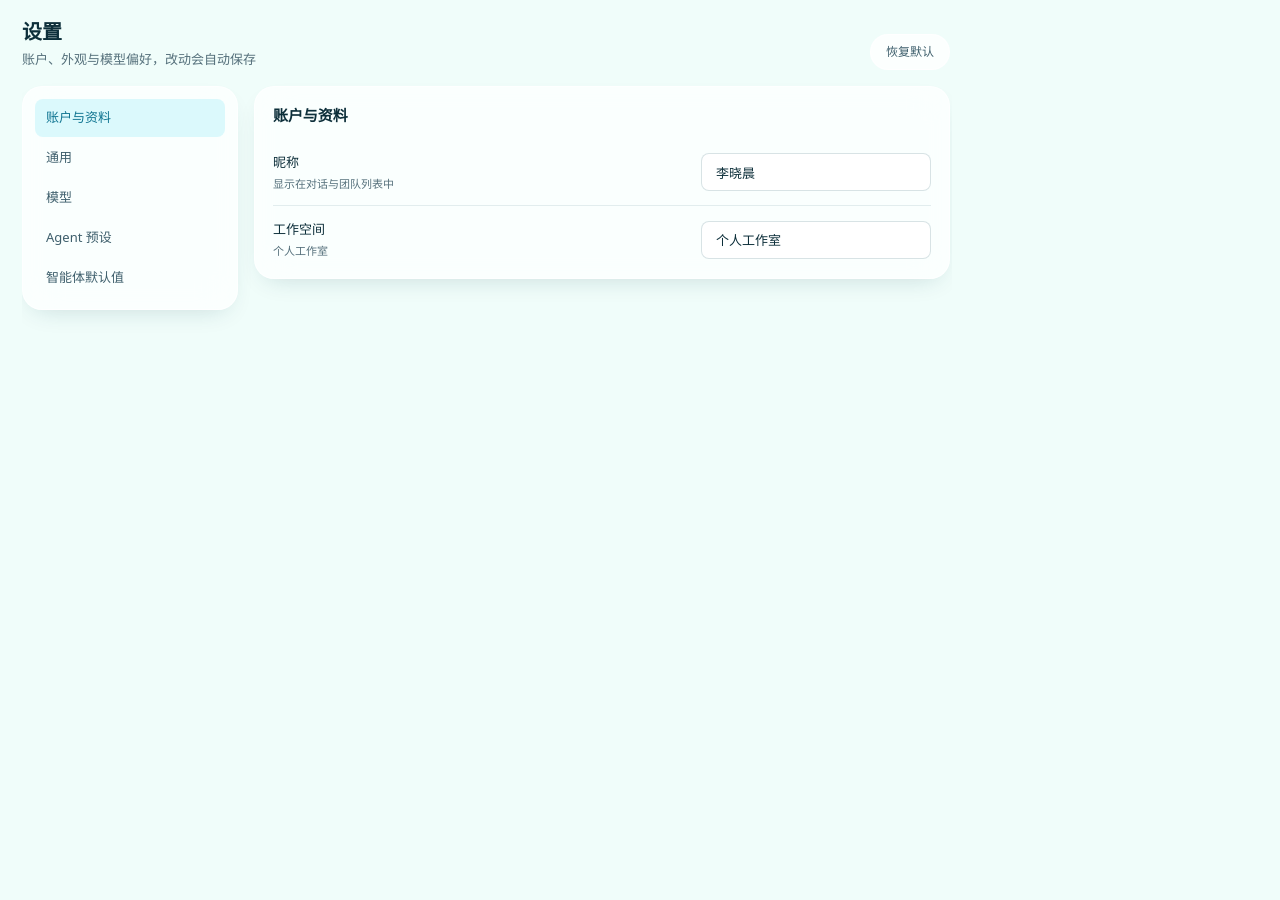
Test case: 查看配置 shows the declared plugin list as read-only YAML
Expected: the heading "设置" is shown, [22, 18, 62, 45]
Step 1. Click the button "Agent 预设" → [130, 238], box [35, 219, 225, 257]
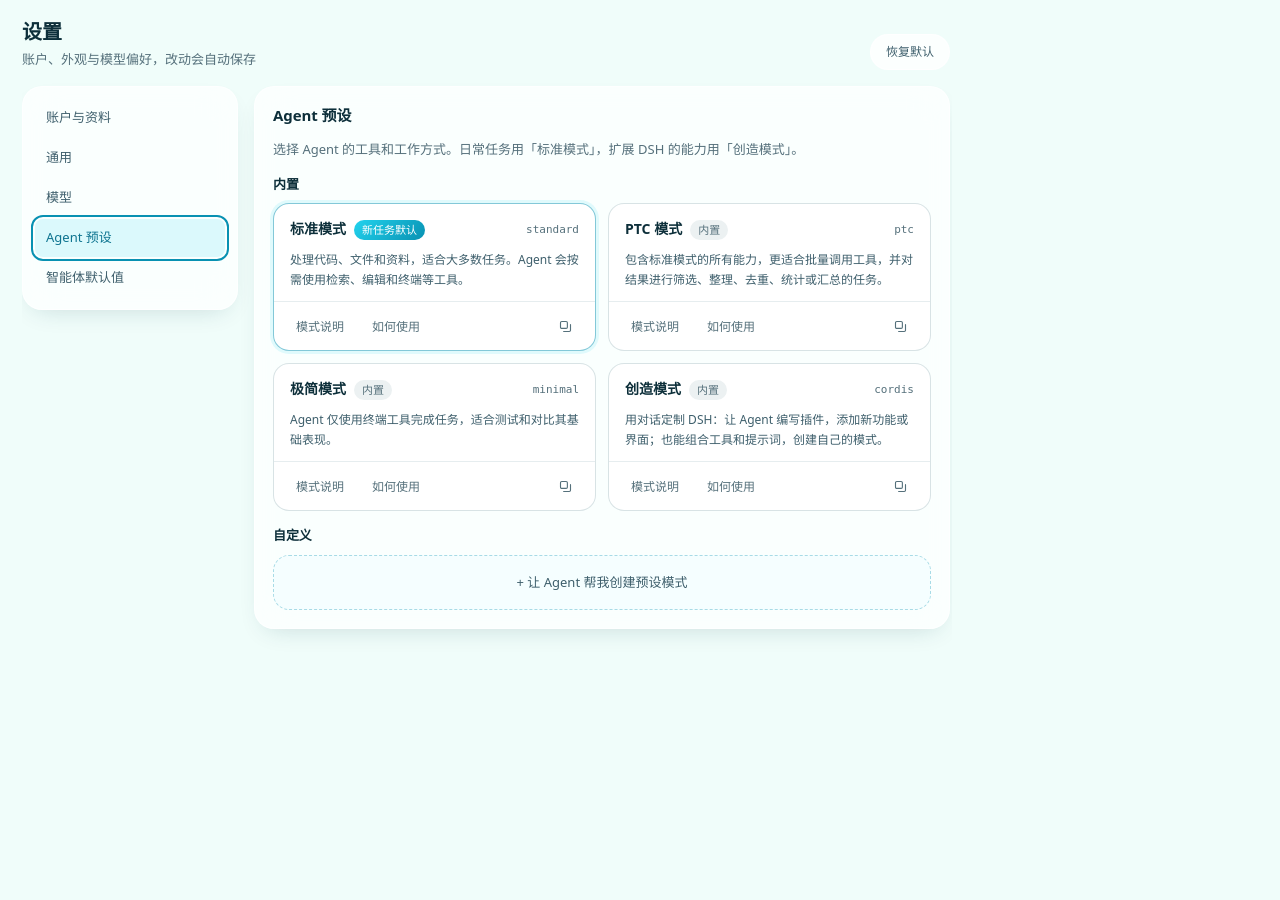
Step 2. Click the button named "查看配置：PTC 模式" → [900, 326], box [886, 312, 914, 340]
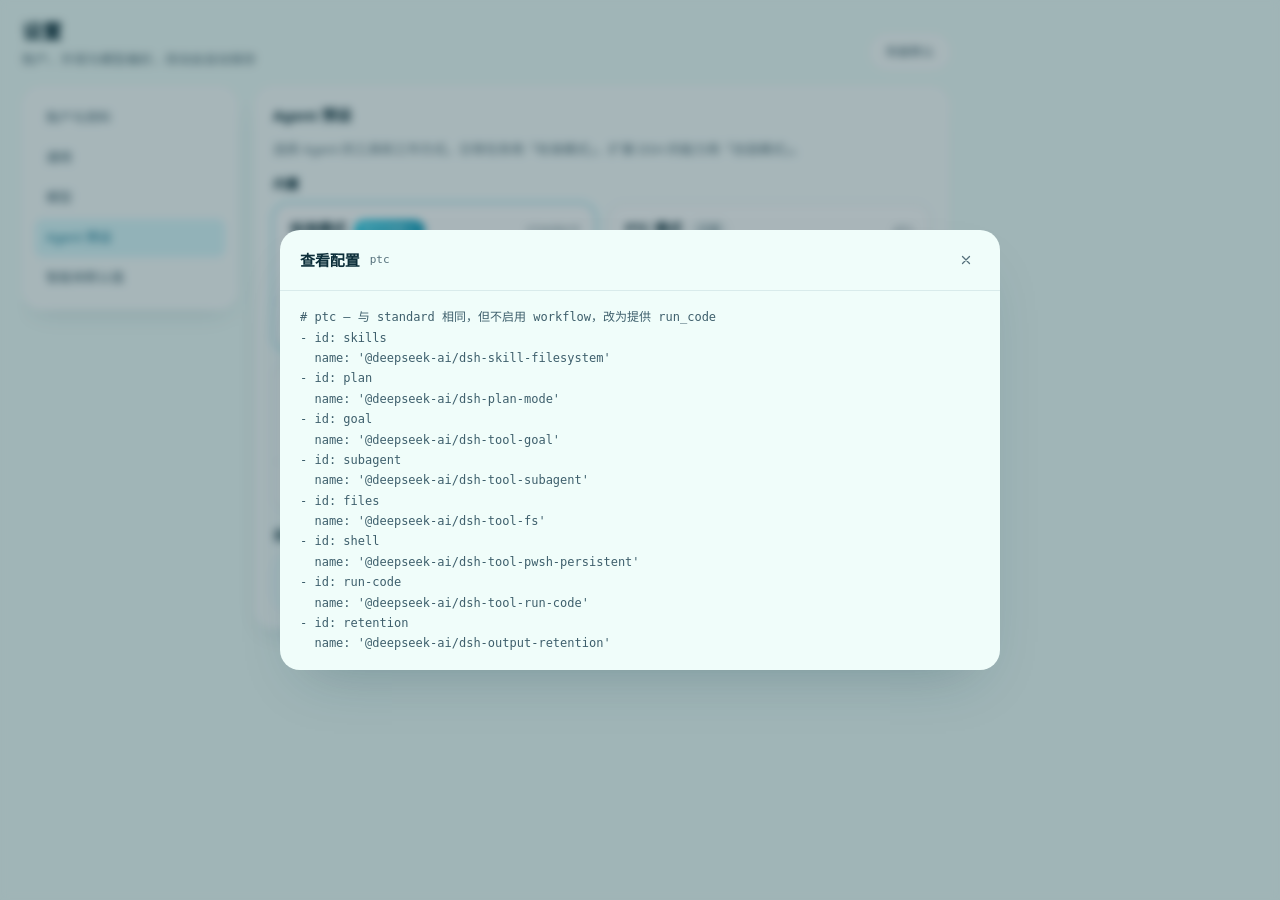
Now the text "dsh-tool-run-code" is shown, box [300, 310, 716, 650]
